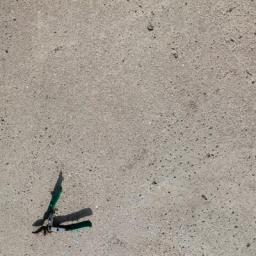FOD: (31, 170, 99, 243)
